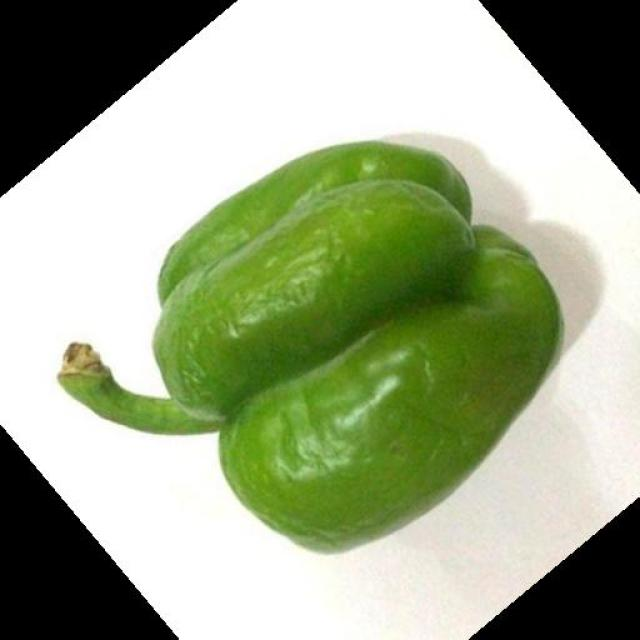Fresh_Capsicum: (141, 163, 508, 497)
